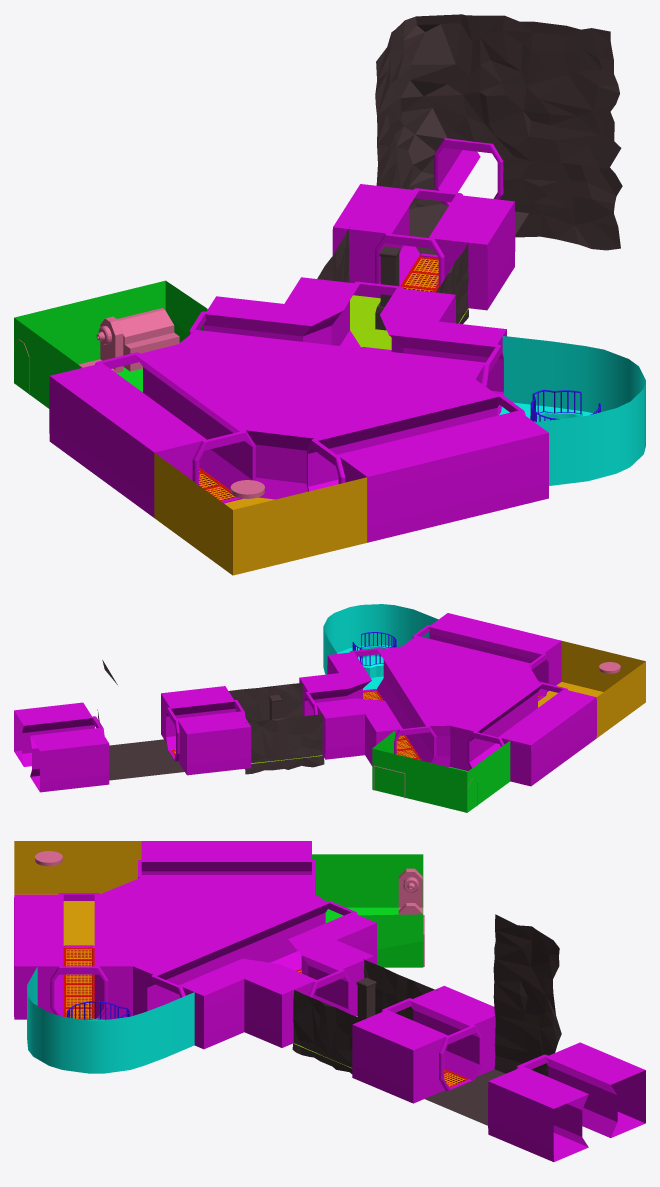
Rendered from Map_Whole.fbx.
The picture shows the model from 3 angles, top to bottom: view 1: azimuth 30°, elevation 25°; view 2: azimuth 150°, elevation 25°; view 3: azimuth 270°, elevation 25°; orthographic projection. The views are drawn at different scales.
Visible parts, largest first — view 1: Cube.025; view 2: Cube.025; view 3: Cube.025.
Boxes of the visible parts, left/top/right/bottom form: Cube.025: left=14, top=14, right=645, bottom=575; Cube.025: left=14, top=604, right=645, bottom=812; Cube.025: left=14, top=841, right=645, bottom=1161.
Size of the model in its own units: 4097 by 1304 by 4083.
